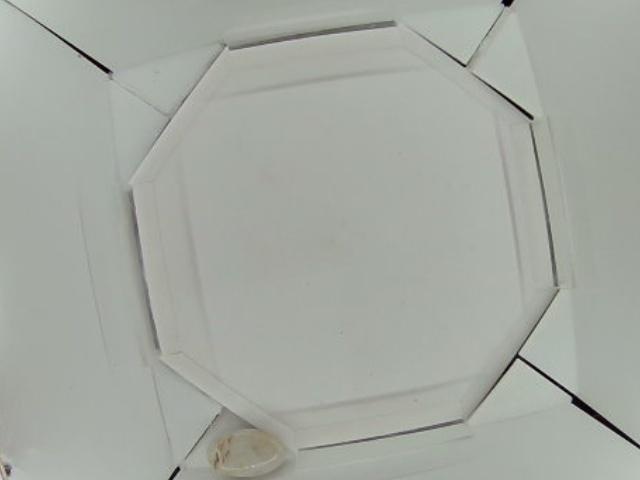Pebble: (207, 427, 292, 480)
